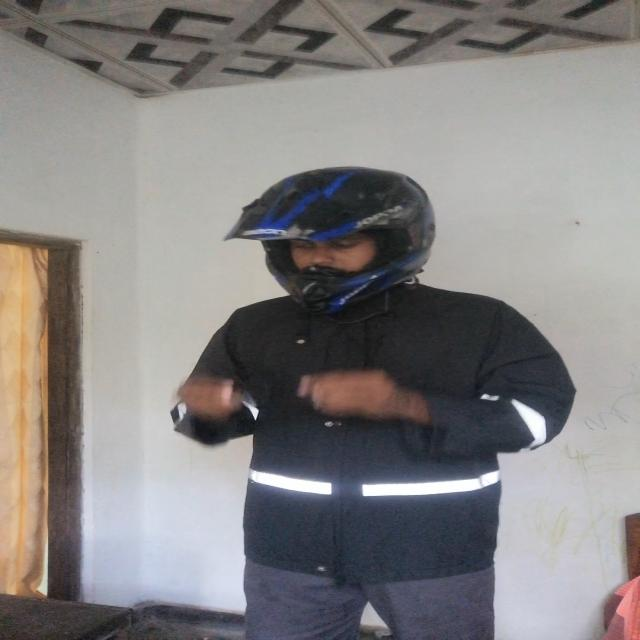Helmet_Wearer: (226, 158, 442, 324)
Jacket_Wearer: (181, 276, 578, 573)
Person: (182, 171, 574, 640)
